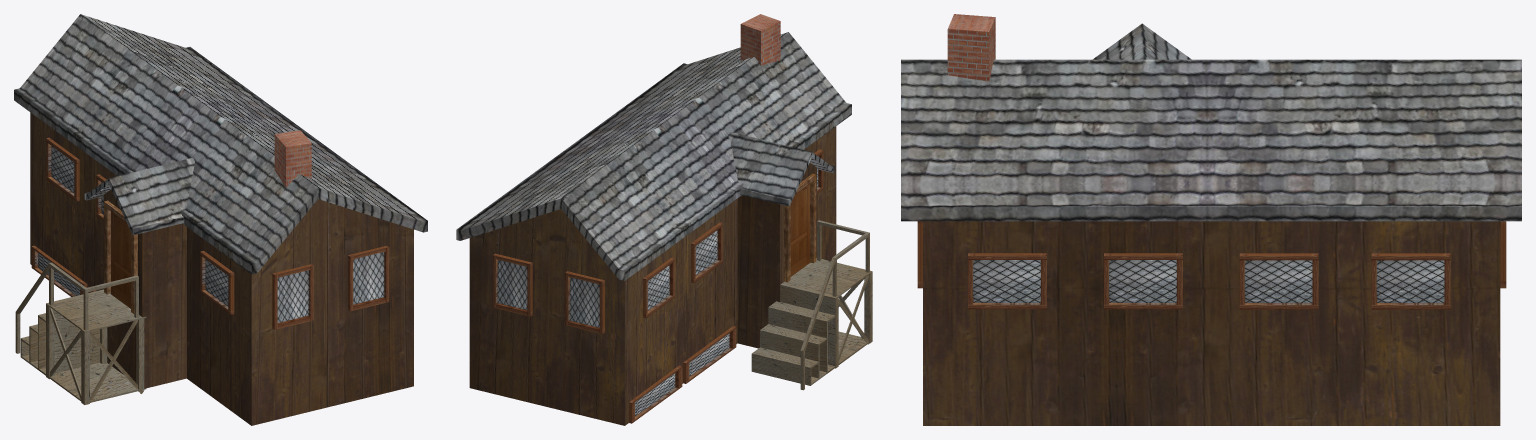
File: House_04_new.fbx
The picture shows the model from 3 angles, left to right: view 1: azimuth 30°, elevation 25°; view 2: azimuth 150°, elevation 25°; view 3: azimuth 270°, elevation 25°; orthographic projection. The views are drawn at different scales.
Visible parts, largest first — view 1: House04_Good:pCube70, pCube179, pCube178, pCube150, pCube145, pCube172, Blacksmith:pCube173, pCube175, pCube151, pCube176, pCube159, Blacksmith:pCube159 (+3 smaller); view 2: House04_Good:pCube70, pCube179, pCube178, pCube150, pCube172, pCube175, pCube173, pCube176, pCube177, pCube153, pCube151, pCube142 (+7 smaller); view 3: House04_Good:pCube70, pCube174, pCube180, pCube173, pCube175, pCube172.
Part boxes in pixels (x1=…): House04_Good:pCube70: x1=14, y1=14, x2=427, y2=425; pCube179: x1=272, y1=264, x2=313, y2=329; pCube178: x1=348, y1=245, x2=389, y2=311; pCube150: x1=46, y1=289, x2=146, y2=331; pCube145: x1=21, y1=354, x2=146, y2=402; pCube172: x1=274, y1=130, x2=311, y2=187; Blacksmith:pCube173: x1=200, y1=251, x2=234, y2=314; pCube175: x1=46, y1=137, x2=79, y2=201; pCube151: x1=54, y1=311, x2=99, y2=373; pCube176: x1=31, y1=245, x2=87, y2=296; pCube159: x1=81, y1=329, x2=89, y2=404; Blacksmith:pCube159: x1=136, y1=317, x2=144, y2=391; House04_Good:pCube70: x1=456, y1=32, x2=851, y2=425; pCube179: x1=493, y1=253, x2=532, y2=316; pCube178: x1=565, y1=271, x2=604, y2=334; pCube150: x1=780, y1=258, x2=871, y2=299; pCube172: x1=740, y1=14, x2=780, y2=65; pCube175: x1=643, y1=257, x2=674, y2=318; pCube173: x1=691, y1=222, x2=722, y2=283; pCube176: x1=629, y1=365, x2=682, y2=423; pCube177: x1=683, y1=326, x2=736, y2=383; pCube153: x1=768, y1=307, x2=827, y2=373; pCube151: x1=780, y1=286, x2=835, y2=366; pCube142: x1=751, y1=354, x2=811, y2=385; House04_Good:pCube70: x1=901, y1=23, x2=1521, y2=425; pCube174: x1=1371, y1=253, x2=1450, y2=309; pCube180: x1=1239, y1=253, x2=1318, y2=309; pCube173: x1=1104, y1=253, x2=1182, y2=309; pCube175: x1=968, y1=253, x2=1046, y2=309; pCube172: x1=947, y1=14, x2=995, y2=81.
Size of the model in its own units: 89.82 by 83.88 by 137.
